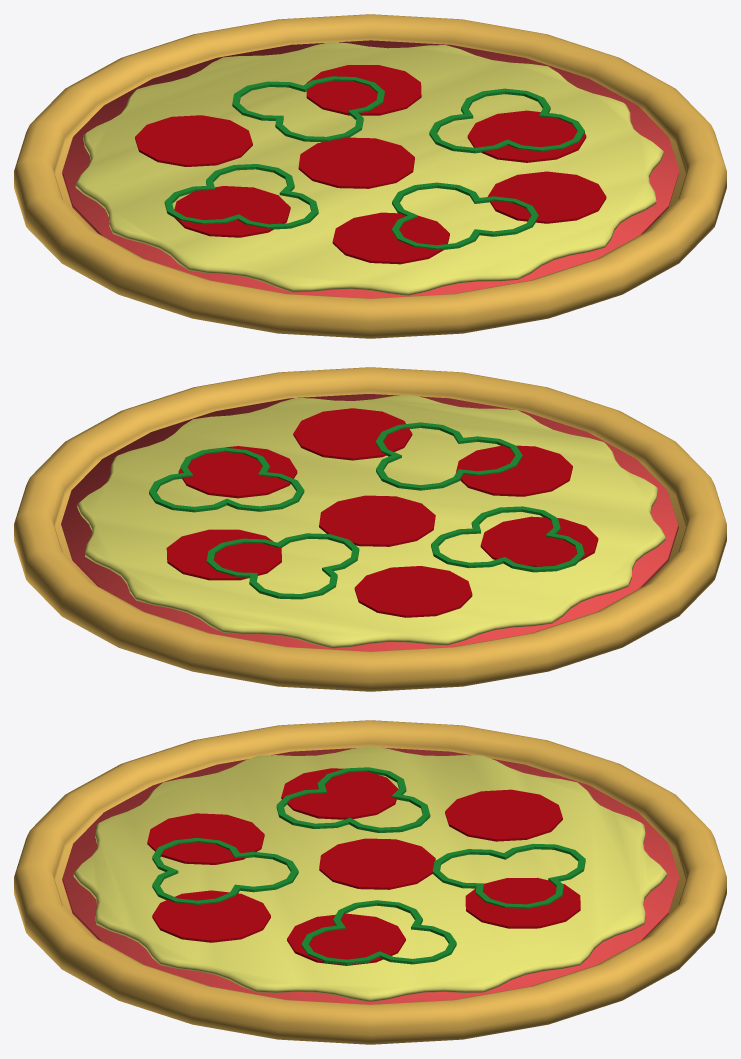
The model's file is pizza.glb.
3 views of the same model, one above another, from view 1: azimuth 30°, elevation 25°; view 2: azimuth 150°, elevation 25°; view 3: azimuth 270°, elevation 25° (orthographic).
Parts seen in each view (by area): view 1: cheese, pizza, tomatosauce, salami.7, salami.2, salami.5, salami.4, salami.3, salami.1, salami.6, bellpepper.3, bellpepper.4 (+2 smaller); view 2: cheese, pizza, tomatosauce, salami.2, salami.7, salami.5, salami.4, salami.1, salami.3, salami.6, bellpepper.1, bellpepper.3 (+2 smaller); view 3: cheese, pizza, tomatosauce, salami.2, salami.7, salami.5, salami.3, salami.4, salami.1, salami.6, bellpepper.2, bellpepper.3 (+2 smaller).
Boxes of the visible parts, x1=… form: cheese: x1=75, y1=42, x2=663, y2=295; pizza: x1=14, y1=14, x2=726, y2=338; tomatosauce: x1=62, y1=40, x2=679, y2=298; salami.7: x1=298, y1=137, x2=414, y2=188; salami.2: x1=135, y1=115, x2=252, y2=166; salami.5: x1=487, y1=171, x2=606, y2=223; salami.4: x1=332, y1=212, x2=449, y2=264; salami.3: x1=174, y1=186, x2=290, y2=237; salami.1: x1=306, y1=65, x2=421, y2=115; salami.6: x1=467, y1=110, x2=586, y2=162; bellpepper.3: x1=232, y1=76, x2=384, y2=142; bellpepper.4: x1=391, y1=182, x2=538, y2=249; cheese: x1=77, y1=394, x2=665, y2=648; pizza: x1=14, y1=367, x2=726, y2=691; tomatosauce: x1=61, y1=394, x2=678, y2=651; salami.2: x1=354, y1=566, x2=472, y2=617; salami.7: x1=319, y1=495, x2=435, y2=546; salami.5: x1=293, y1=408, x2=412, y2=460; salami.4: x1=456, y1=445, x2=572, y2=496; salami.1: x1=166, y1=529, x2=281, y2=580; salami.3: x1=480, y1=516, x2=598, y2=566; salami.6: x1=178, y1=446, x2=297, y2=498; bellpepper.1: x1=431, y1=506, x2=584, y2=572; bellpepper.3: x1=206, y1=533, x2=359, y2=599; cheese: x1=73, y1=746, x2=666, y2=1001; pizza: x1=14, y1=720, x2=726, y2=1044; tomatosauce: x1=62, y1=747, x2=679, y2=1004; salami.2: x1=445, y1=789, x2=562, y2=841; salami.7: x1=319, y1=838, x2=435, y2=889; salami.5: x1=152, y1=890, x2=270, y2=942; salami.3: x1=281, y1=768, x2=398, y2=819; salami.4: x1=147, y1=813, x2=264, y2=864; salami.1: x1=465, y1=877, x2=580, y2=928; salami.6: x1=287, y1=913, x2=405, y2=965; bellpepper.2: x1=301, y1=900, x2=456, y2=964; bellpepper.3: x1=432, y1=843, x2=585, y2=908.
Bounding box in the file's own units: 0.48 × 0.0209 × 0.48.
